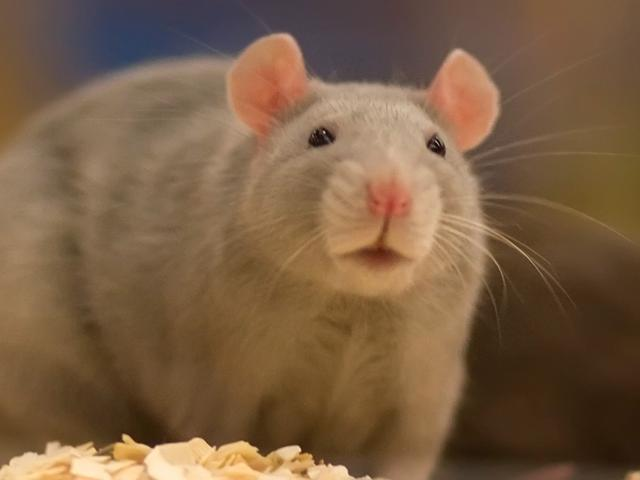mouse: (14, 32, 568, 462)
